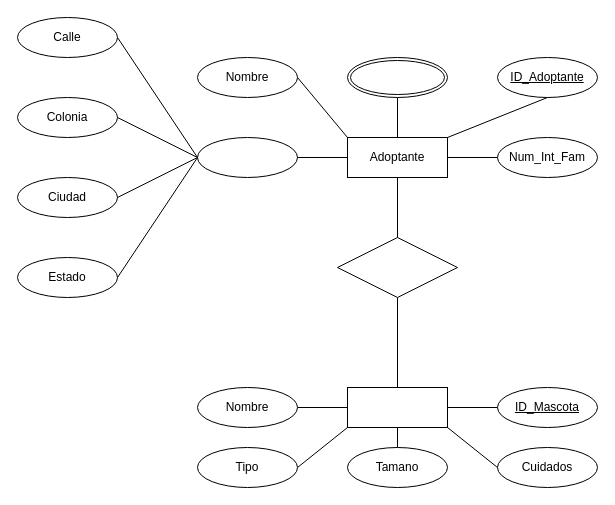
The diagram is 615 pixels wide and 505 high, and some of its shapes have lost their labels. Each missing label, with the box of its shape:
Adopta: (336, 236, 458, 298)
Direccion: (196, 136, 298, 178)
Mascota: (346, 386, 448, 428)
Telefono: (346, 56, 448, 98)
